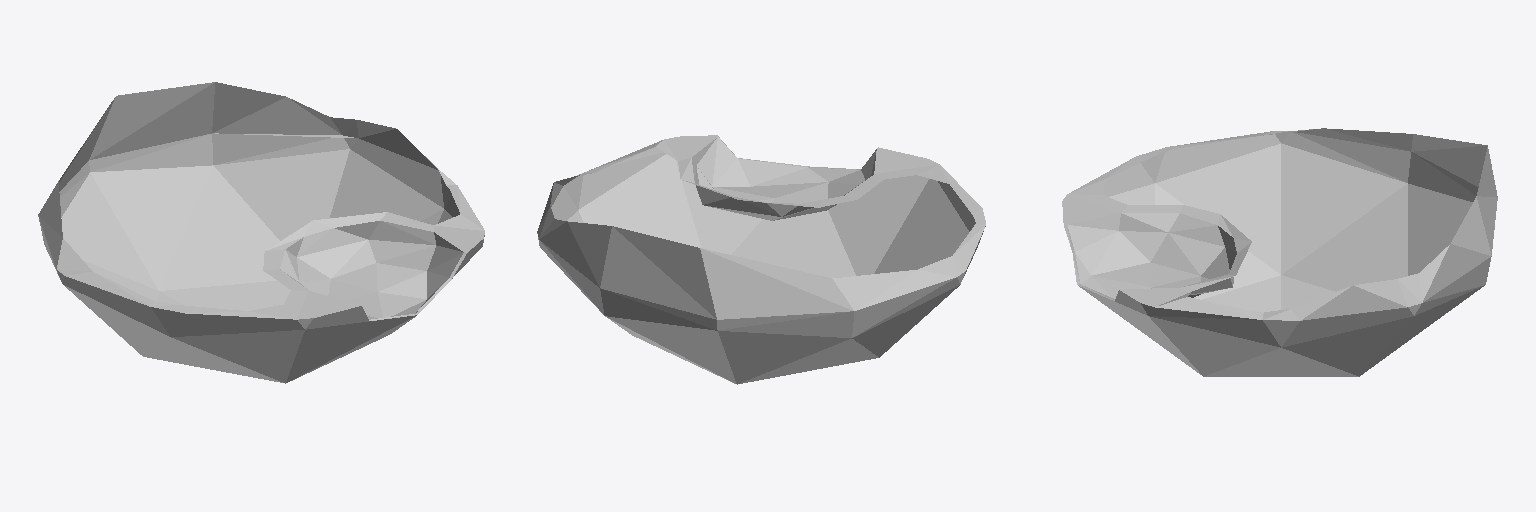
Rendered from ground.obj.
3 renders of one model, left to right at view 1: azimuth 30°, elevation 25°; view 2: azimuth 150°, elevation 25°; view 3: azimuth 270°, elevation 25°, orthographic.
Bounding box in the file's own units: 7.1 × 3.25 × 6.9.